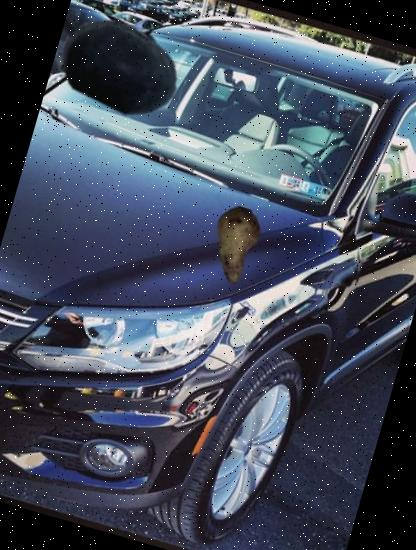Blueberry: (45, 0, 196, 141)
Pear: (186, 196, 280, 292)
